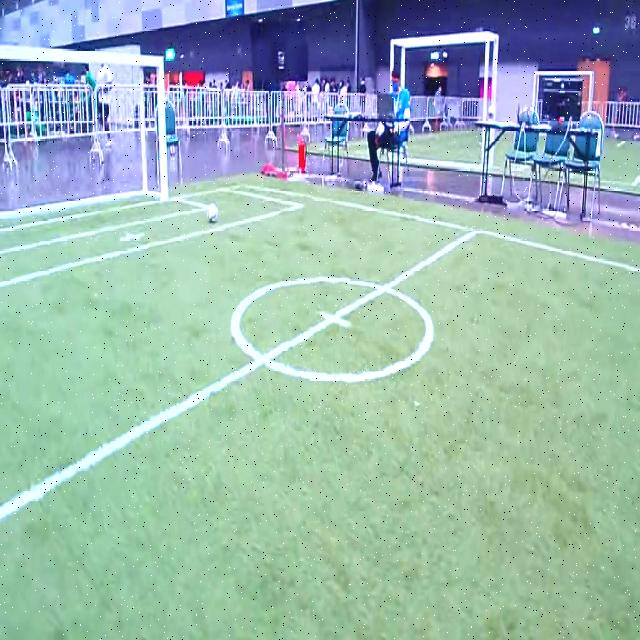ball: (209, 204, 218, 222)
